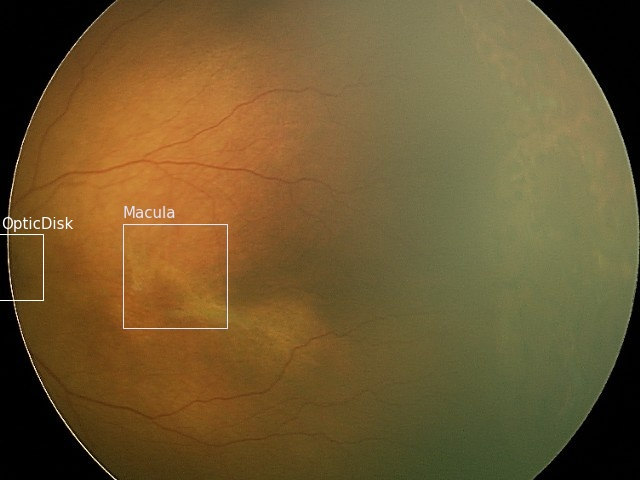Macula: (122, 223, 226, 327)
OpticDisk: (1, 233, 42, 299)
